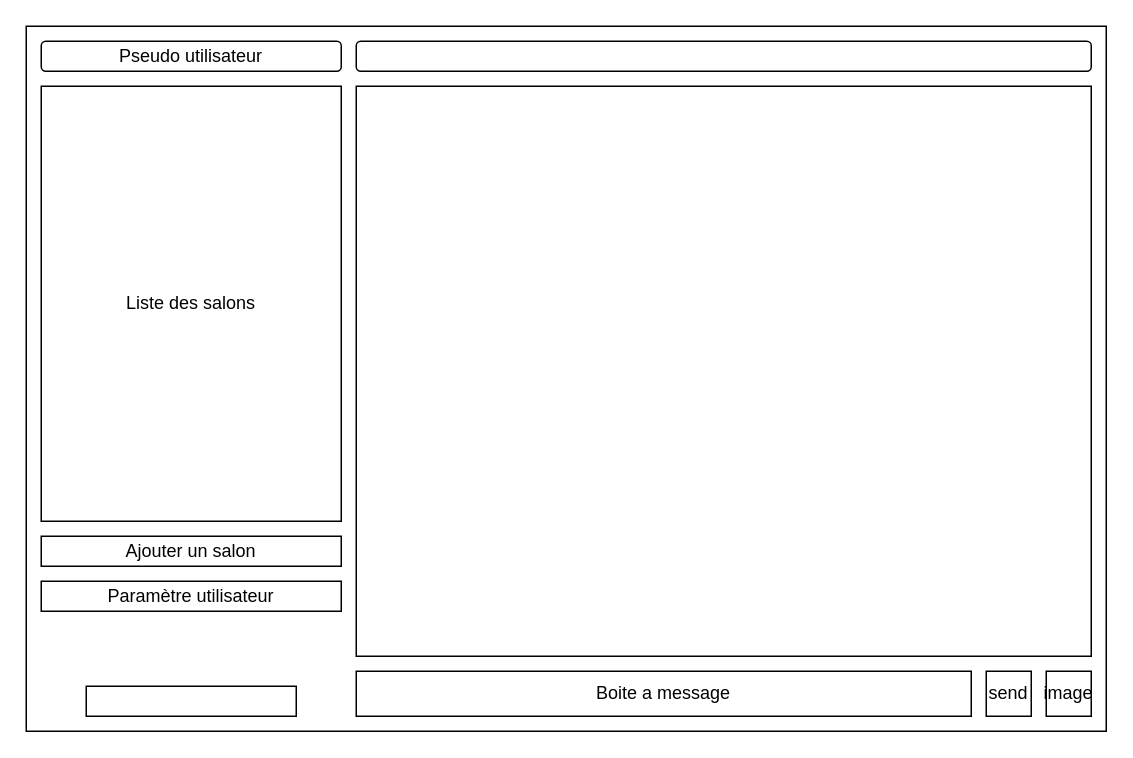
Some shapes in this 1133 by 758 pixel diagram are drawn without their labels. Here are the shapes that lost their labels. From the top down, the centre of each, then its label:
[723,55]: Nom du salon ouvert
[723,370]: salon ouvert
[190,700]: Se déconnecter
